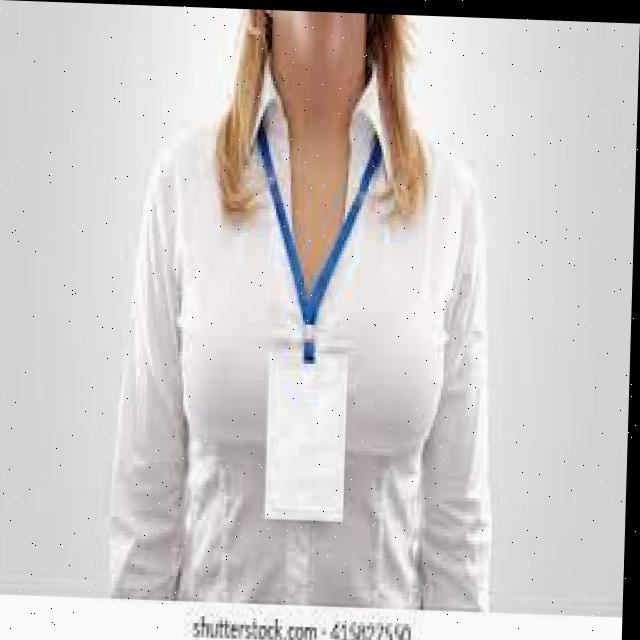id_card: (243, 127, 372, 527)
